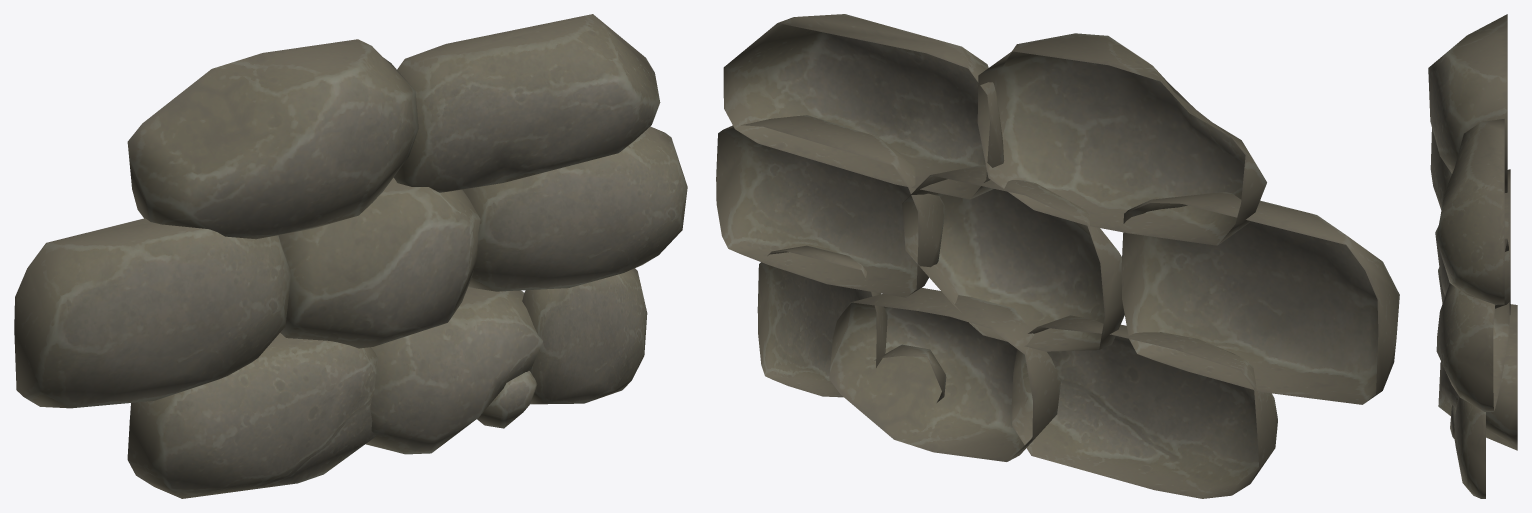
The model's file is MSH_fwOF_Ruins_Wall_Bricks_05.fbx.
3 renders of one model, left to right at view 1: azimuth 30°, elevation 25°; view 2: azimuth 150°, elevation 25°; view 3: azimuth 270°, elevation 25°, orthographic. The views are drawn at different scales.
Parts seen in each view (by area): view 1: MSH_fwOF_Ruins_Wall_Bricks_05; view 2: MSH_fwOF_Ruins_Wall_Bricks_05; view 3: MSH_fwOF_Ruins_Wall_Bricks_05.
Boxes of the visible parts, x1,y1,x2,y2 form: MSH_fwOF_Ruins_Wall_Bricks_05: (14,14,687,498); MSH_fwOF_Ruins_Wall_Bricks_05: (716,14,1399,498); MSH_fwOF_Ruins_Wall_Bricks_05: (1428,14,1517,498).
Bounding box in the file's own units: 2.54 × 1.55 × 0.3695.
